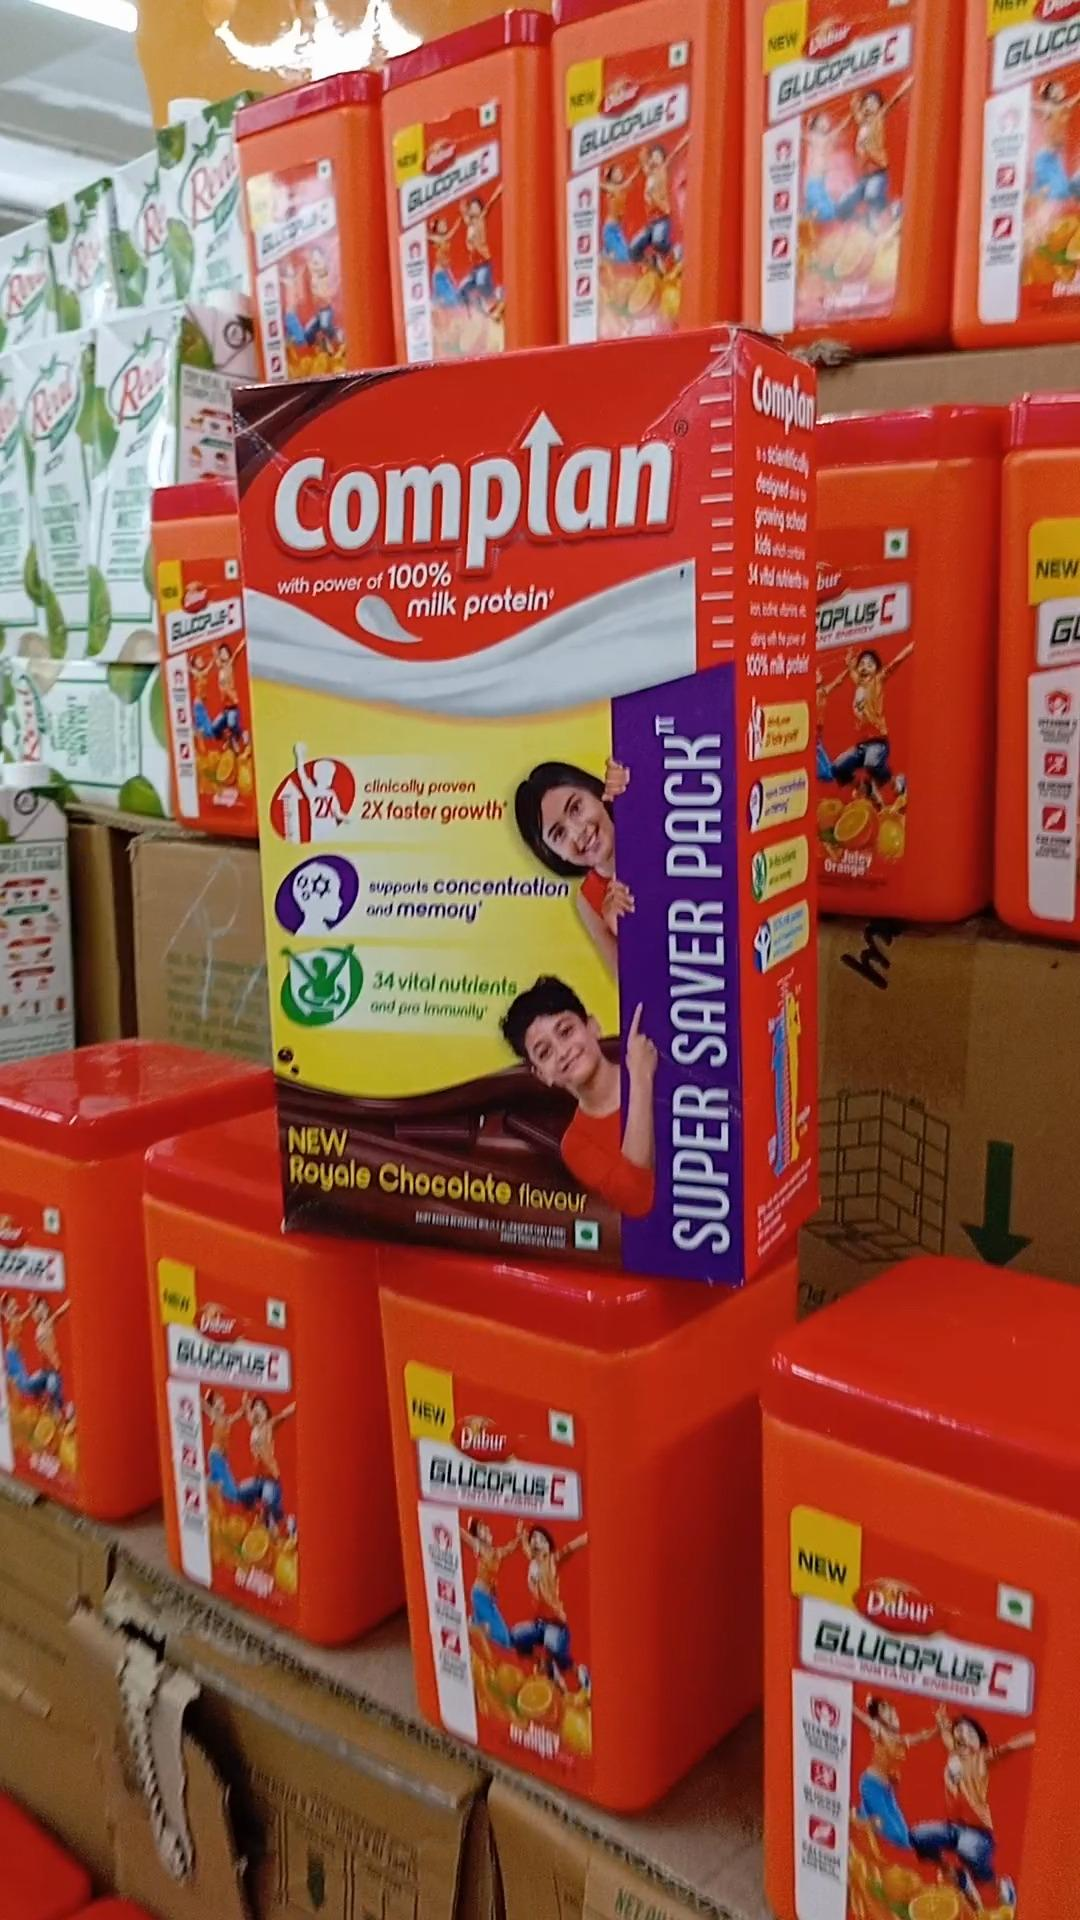COMPLAN_CHOCOLATE_1_KG_PACK: (235, 331, 735, 1290)
